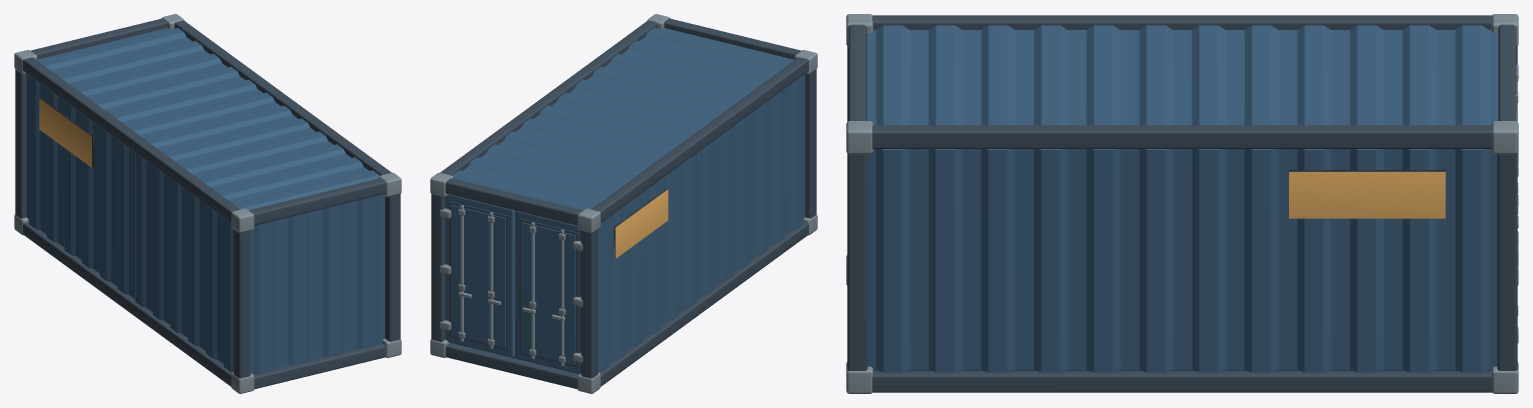
Rendered from d09_storage_02.glb.
3 renders of one model, left to right at view 1: azimuth 30°, elevation 25°; view 2: azimuth 150°, elevation 25°; view 3: azimuth 270°, elevation 25°, orthographic. The views are drawn at different scales.
Parts seen in each view (by area): view 1: D09Storage02_Mesh; view 2: D09Storage02_Mesh; view 3: D09Storage02_Mesh.
Part boxes in pixels (<box>): D09Storage02_Mesh: <box>14,14,401,393</box>; D09Storage02_Mesh: <box>430,14,817,393</box>; D09Storage02_Mesh: <box>846,14,1518,393</box>.
Size of the model in its own units: 2.5 by 2.6 by 6.
